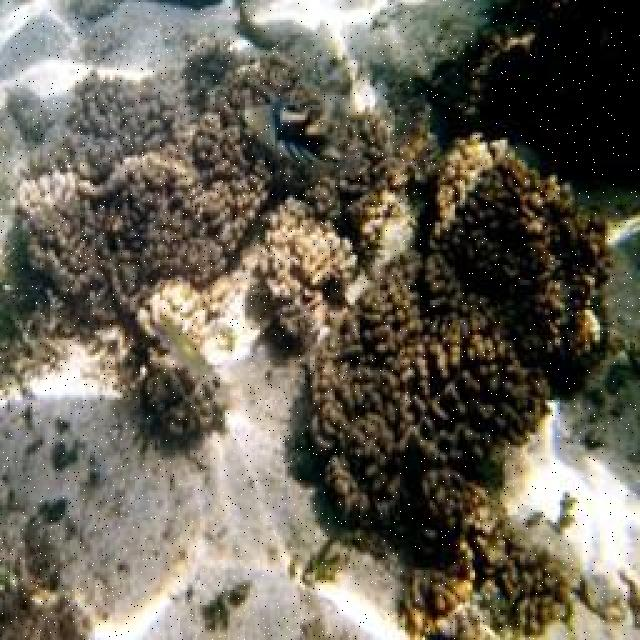fish: (241, 95, 342, 166)
reefs: (0, 2, 437, 449), (306, 128, 617, 638), (0, 561, 93, 638)
